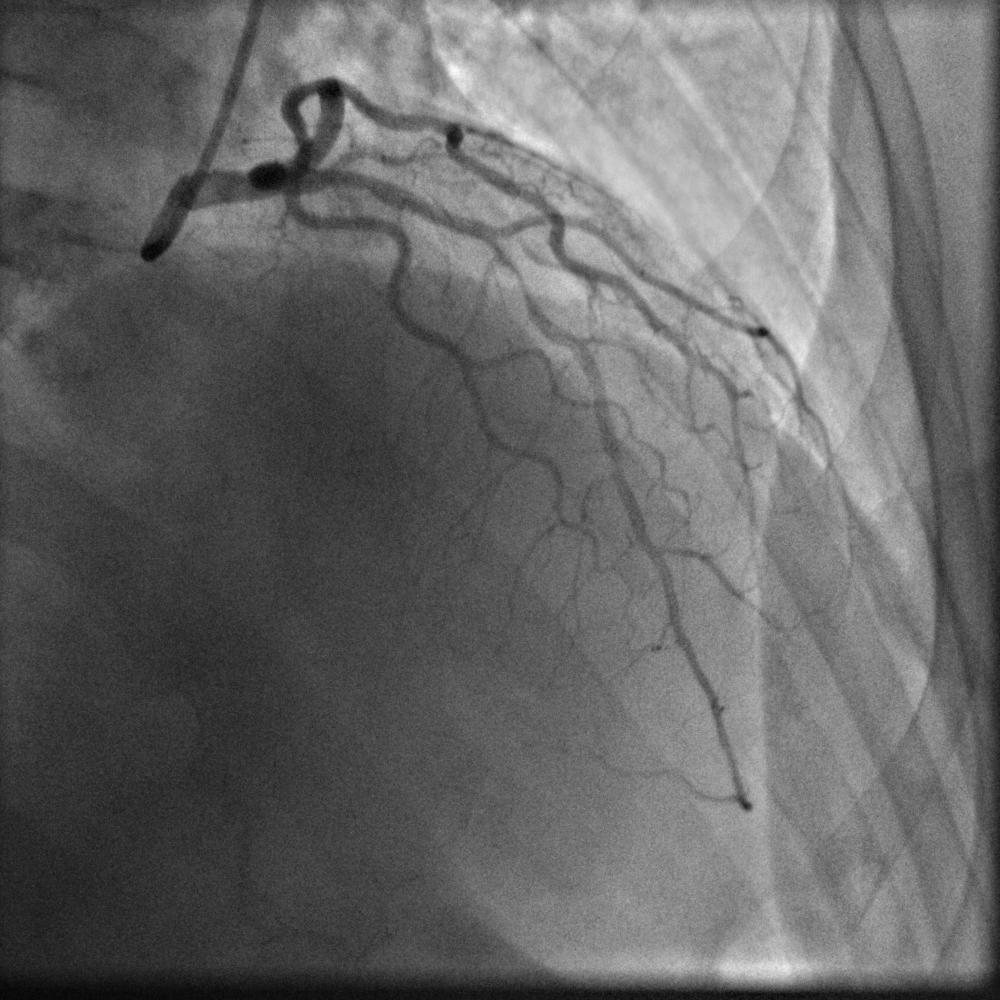Stenosis: (492, 253, 541, 329)
